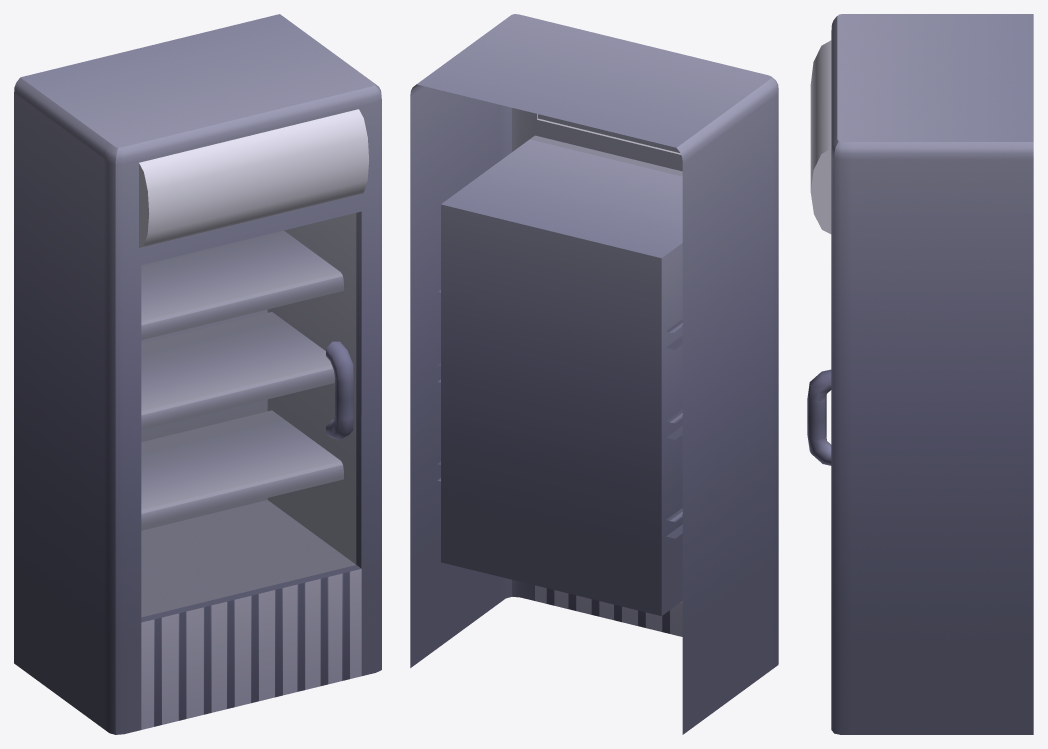
File: asset_Fridge.fbx
3 views of the same model, side by side, from view 1: azimuth 30°, elevation 25°; view 2: azimuth 150°, elevation 25°; view 3: azimuth 270°, elevation 25° (orthographic).
Parts seen in each view (by area): view 1: asset_Fridge; view 2: asset_Fridge; view 3: asset_Fridge.
Boxes of the visible parts, <box> form: asset_Fridge: <box>14,14,381,734</box>; asset_Fridge: <box>410,14,778,734</box>; asset_Fridge: <box>807,14,1033,734</box>.
Size of the model in its own units: 108 by 222 by 76.93.
Materials: 2 (1 with a texture image).
